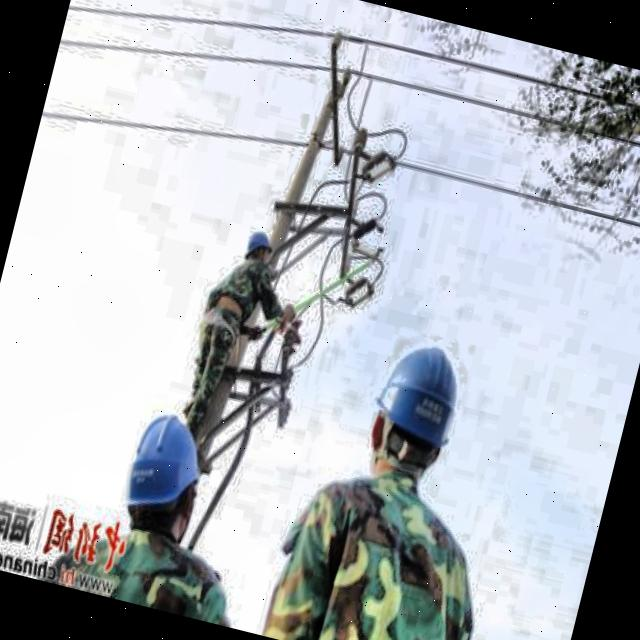helmet: (345, 325, 478, 503), (101, 390, 218, 556), (237, 220, 278, 274)
